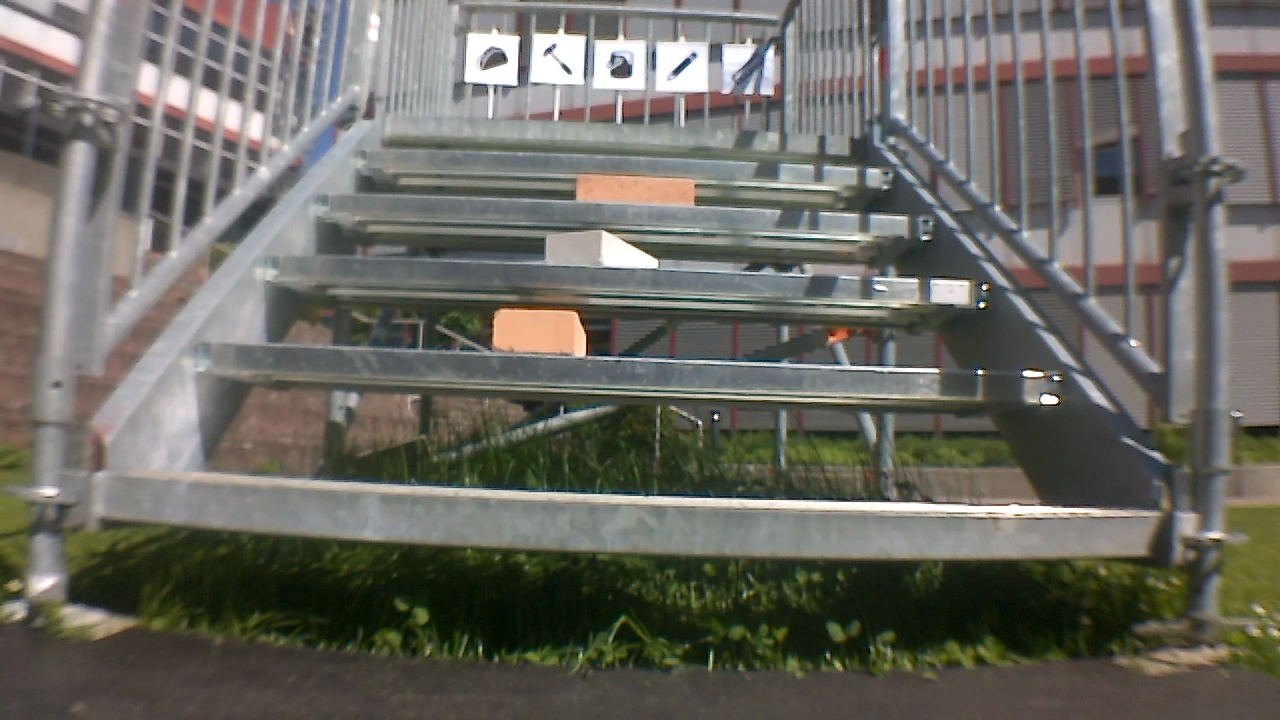brick: (536, 231, 662, 268), (497, 305, 586, 356), (570, 174, 700, 206)
edge: (96, 496, 1176, 568), (175, 342, 1083, 389), (252, 255, 1009, 298), (305, 198, 947, 235), (354, 155, 899, 194), (370, 118, 868, 151)
stairs: (38, 0, 1206, 607)
steps: (68, 124, 1160, 532)
